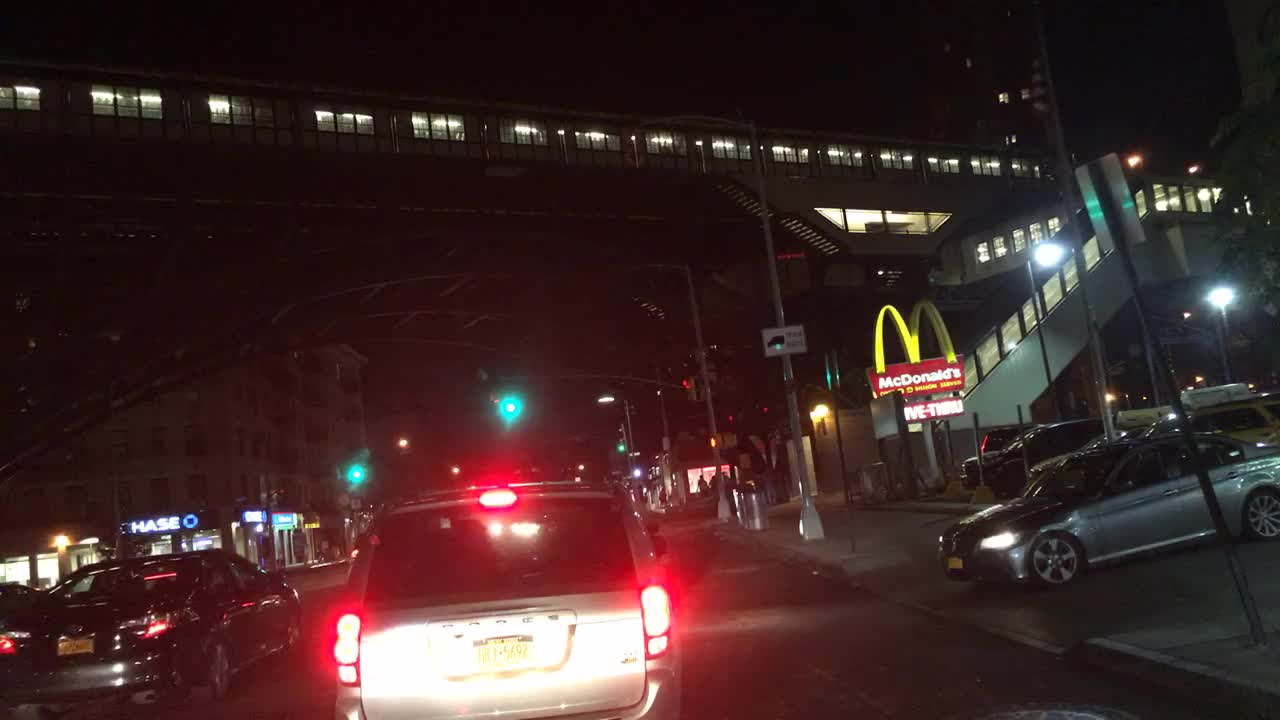car: (334, 477, 681, 719), (936, 428, 1279, 590), (0, 548, 300, 719), (1022, 401, 1174, 486), (958, 413, 1107, 493), (1132, 381, 1279, 452), (980, 418, 1036, 449), (0, 582, 40, 617)
person: (656, 482, 671, 508), (705, 472, 719, 496), (695, 472, 708, 496), (719, 469, 730, 489)
traffic light: (484, 383, 504, 422), (503, 383, 519, 415), (681, 374, 698, 400), (347, 449, 361, 479), (614, 423, 627, 454), (707, 435, 729, 449), (629, 466, 644, 482)
traffic sign: (1071, 152, 1146, 255), (762, 320, 808, 359)
train: (0, 57, 1056, 184)
